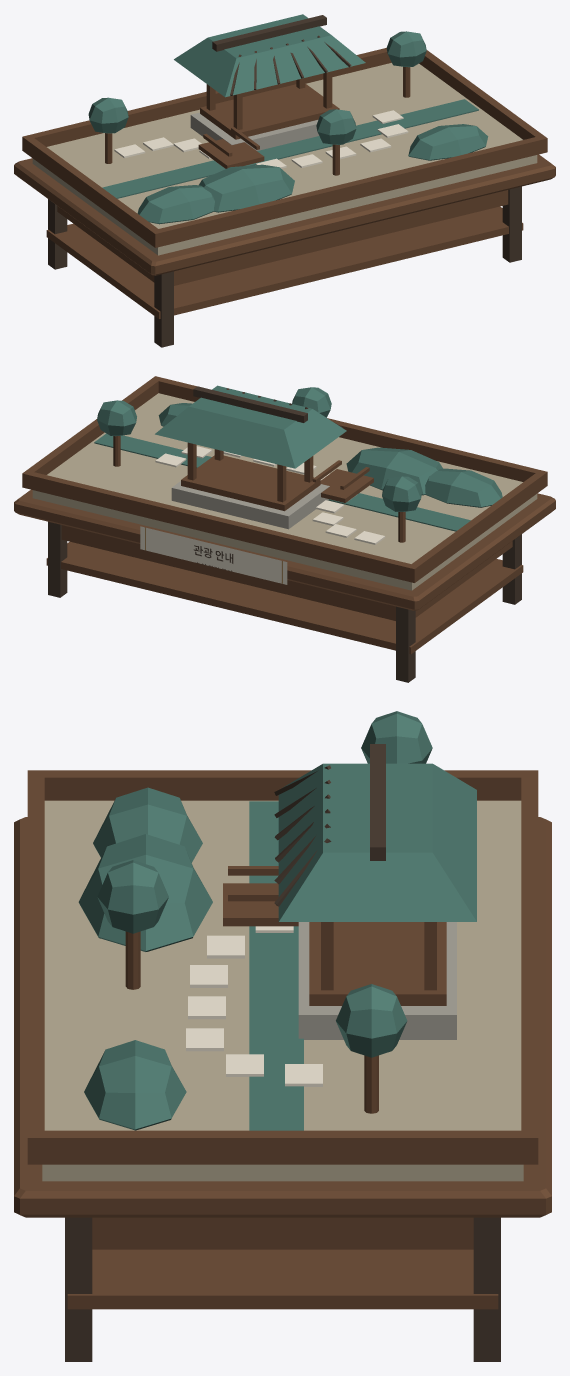
Rendered from N08_Tourism_Route_Diorama.fbx.
3 renders of one model, top to bottom at view 1: azimuth 30°, elevation 25°; view 2: azimuth 150°, elevation 25°; view 3: azimuth 270°, elevation 25°, orthographic. The views are drawn at different scales.
Parts seen in each view (by area): view 1: Structure, Terrain, Hanok_Model, Route; view 2: Structure, Hanok_Model, Terrain, Route; view 3: Structure, Hanok_Model, Terrain, Route.
Boxes of the visible parts, <box> form: Structure: <box>14,48,555,347</box>; Terrain: <box>88,31,488,224</box>; Hanok_Model: <box>174,14,365,150</box>; Route: <box>114,110,408,168</box>; Structure: <box>14,376,555,682</box>; Hanok_Model: <box>155,385,346,529</box>; Terrain: <box>94,387,502,542</box>; Route: <box>155,446,385,544</box>; Structure: <box>14,770,551,1361</box>; Hanok_Model: <box>274,744,476,1039</box>; Terrain: <box>78,711,432,1130</box>; Route: <box>186,866,322,1086</box>.
Size of the model in its own units: 4.25 by 2.12 by 2.57.
Materials: 7 (1 with a texture image).
